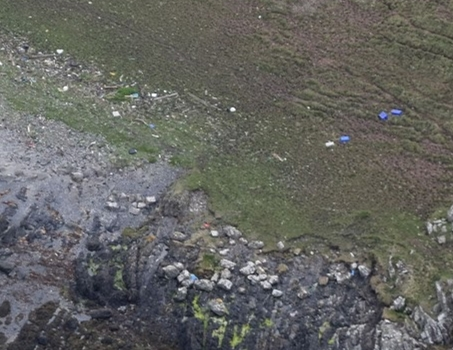scattered_barrel: (314, 102, 407, 155)
together_barrel: (12, 39, 181, 129)
